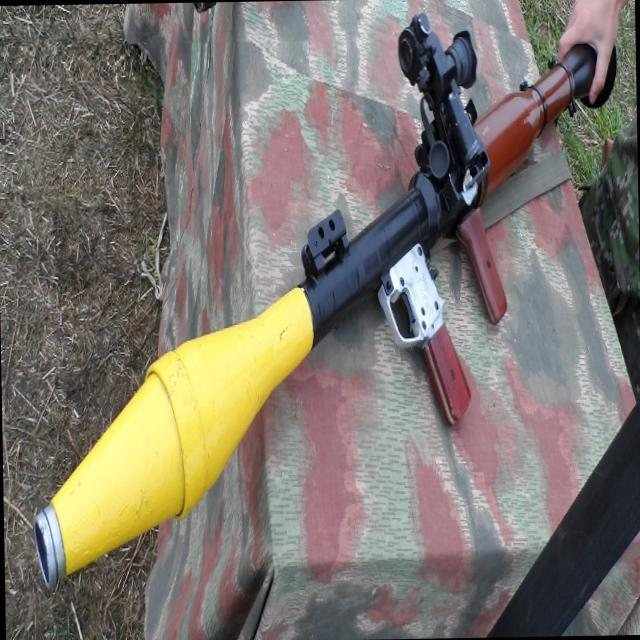Gun: (0, 0, 631, 596)
